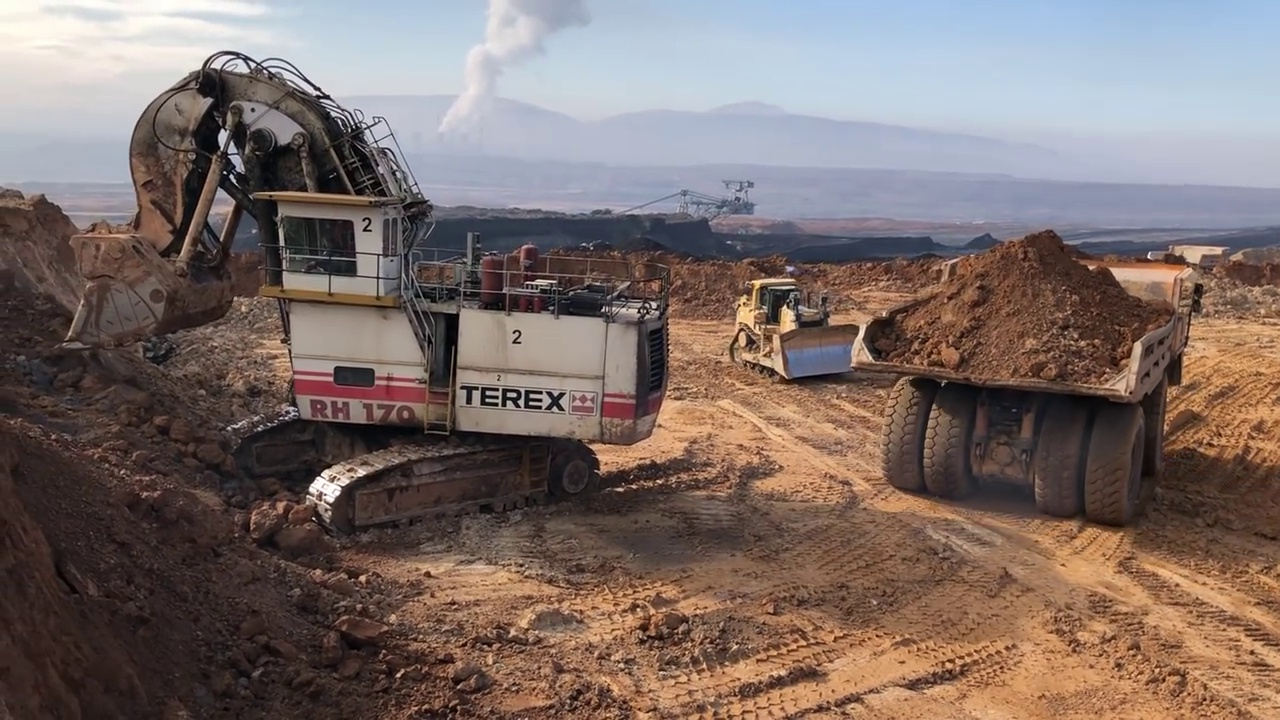dumper: (849, 254, 1203, 522)
excavator: (66, 43, 677, 535)
wheel loader: (733, 275, 862, 383)
